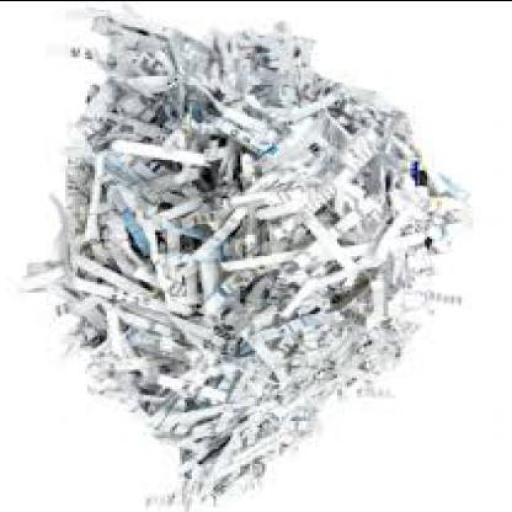paper: (20, 11, 482, 510)
